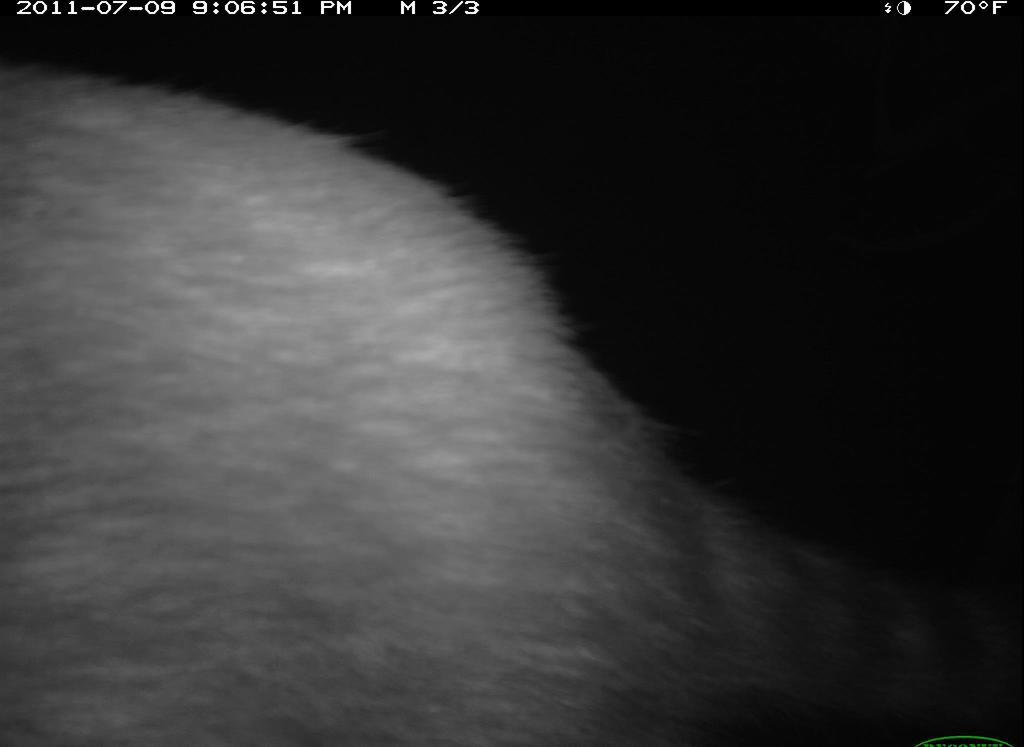raccoon: (6, 77, 978, 747)
